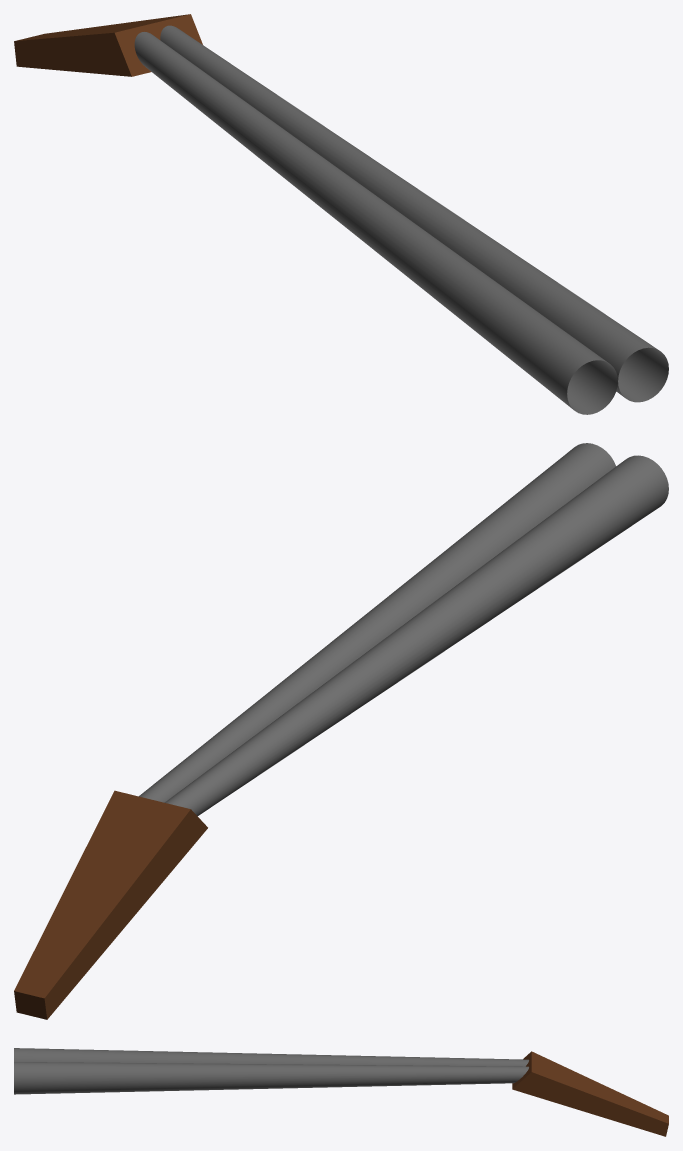
File: rifle.glb
3 renders of one model, top to bottom at view 1: azimuth 30°, elevation 25°; view 2: azimuth 150°, elevation 25°; view 3: azimuth 270°, elevation 25°, orthographic. The views are drawn at different scales.
Parts seen in each view (by area): view 1: Rifle; view 2: Rifle; view 3: Rifle.
Part boxes in pixels (box(x1,y1,x2,y2)): Rifle: box(14, 14, 668, 414); Rifle: box(14, 443, 668, 1019); Rifle: box(14, 1048, 668, 1136).
Bounding box in the file's own units: 0.2999 × 0.3861 × 3.
